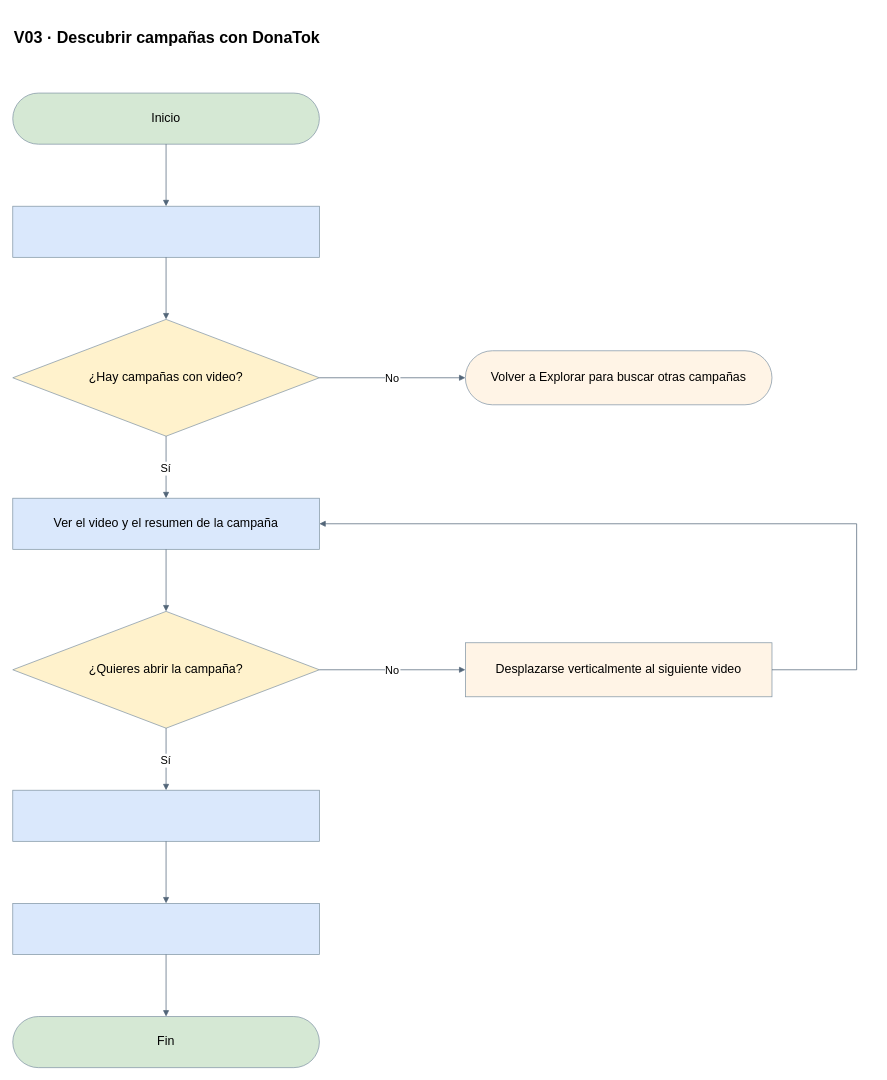
The diagram is 887 pixels wide and 1080 high, and some of its shapes have lost their labels. Each missing label, with the centre of its shape:
"Continuar en V02" goes at (x=165, y=928).
"Entrar en DonaTok" goes at (x=165, y=231).
"Pulsar Ver Campaña y Donar" goes at (x=165, y=815).
